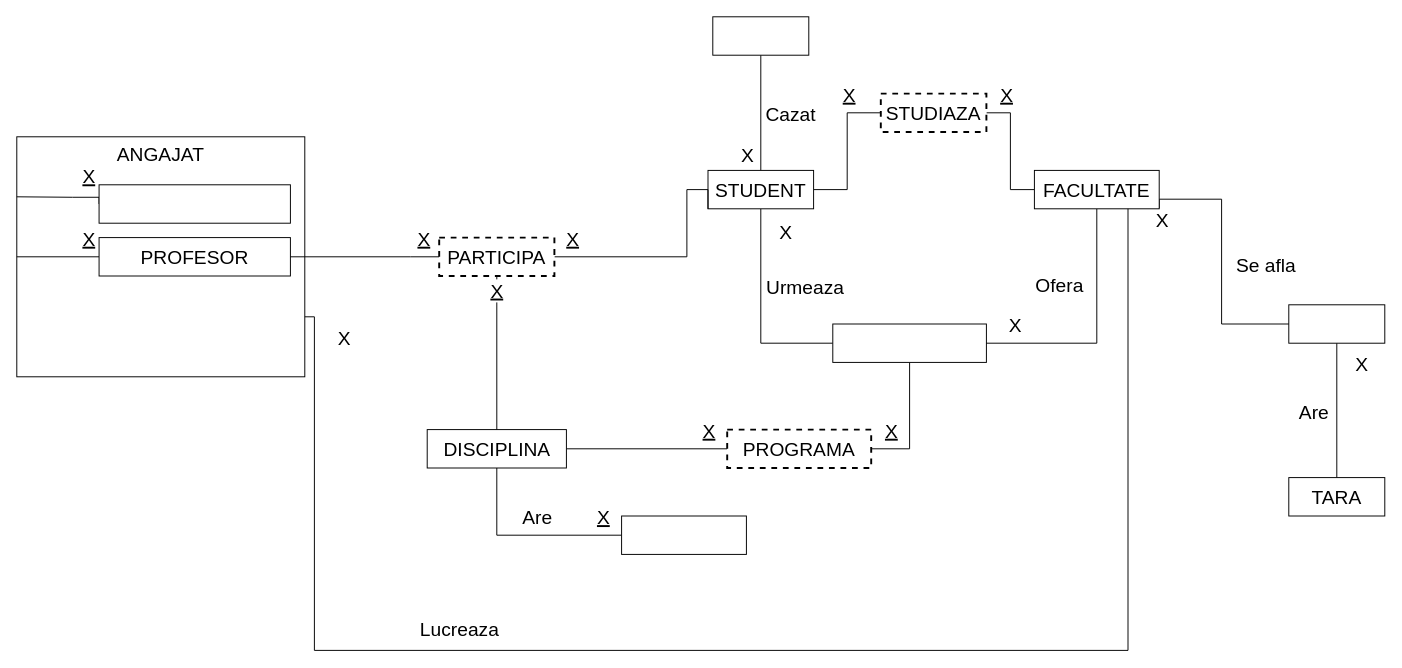
Image size: 1402x668. Some labels were removed from this diagram. The shapes that lost their labels are listed below. From the top down, each one's centre as x and y in pixels, then its label:
At (760,35): "CAMIN".
At (194,203): "SECRETARA".
At (909,342): "SPECIALIZARE".
At (1336,323): "LOCATIE".
At (683,534): "EXAMINARE".
